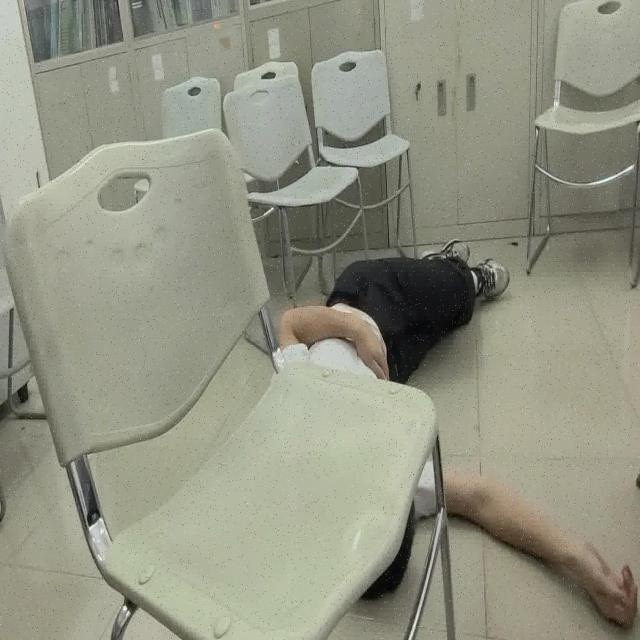fall: (280, 228, 640, 622)
